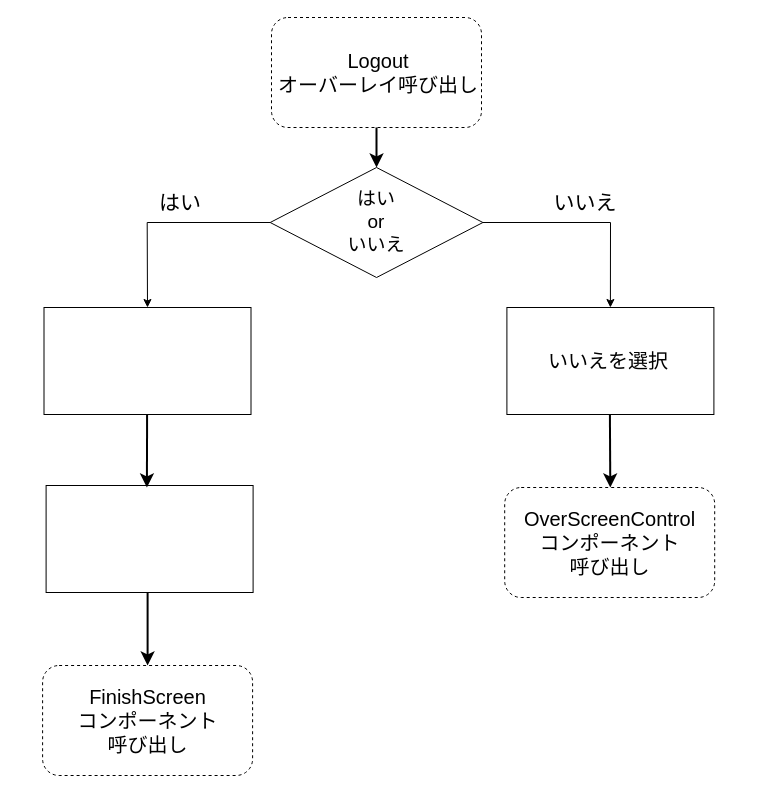
Some shapes in this 758 by 793 pixel diagram are drawn without their labels. The centre of each missing label's shape, as x and y in pixels:
"はいを選択" goes at point (147, 360).
"セッション情報 を削除" goes at point (149, 538).
